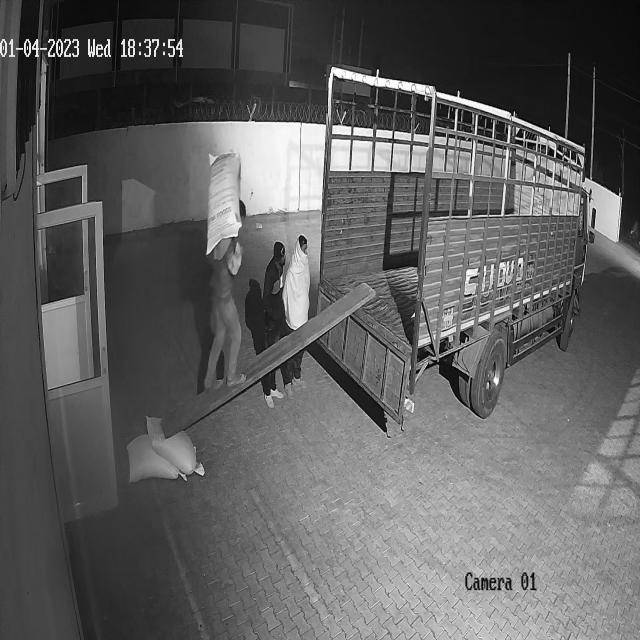sack: (206, 148, 242, 256), (145, 414, 205, 476), (126, 434, 186, 482)
